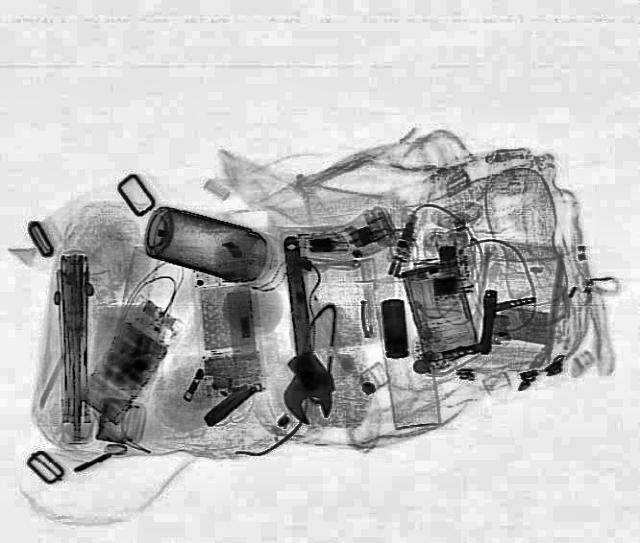Wrench: (268, 235, 336, 427)
